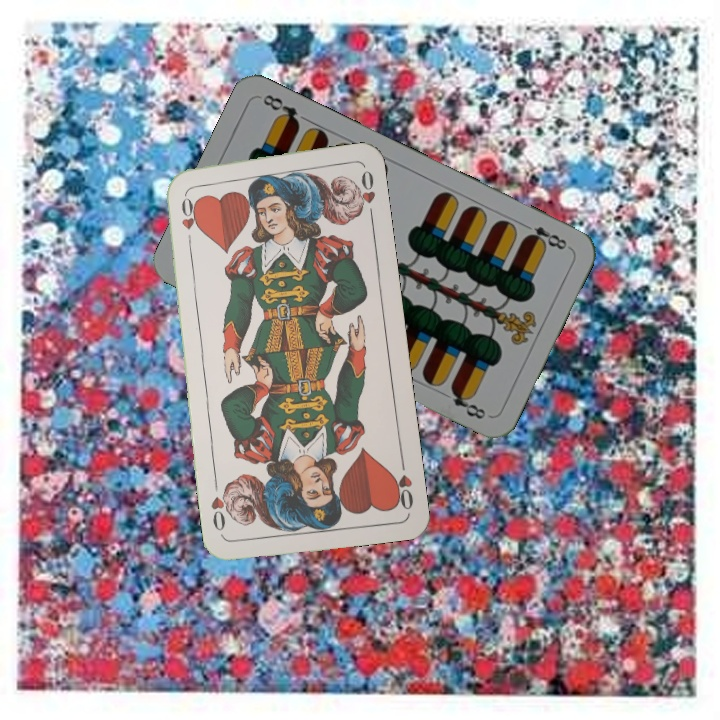E8: (517, 218, 573, 254)
HO: (389, 454, 416, 513), (177, 190, 197, 249)
